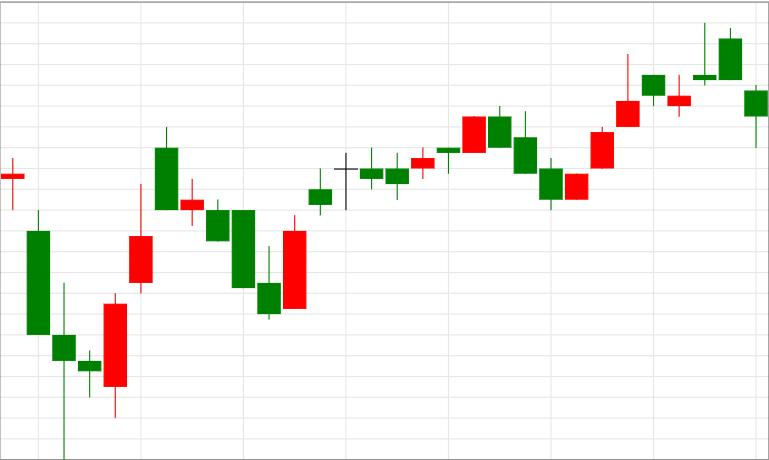bullish_engulfing_rise: (2, 159, 126, 459)
inverse_hammer_rise: (155, 126, 280, 320)
three_white_soldiers_rise: (488, 53, 639, 210)
